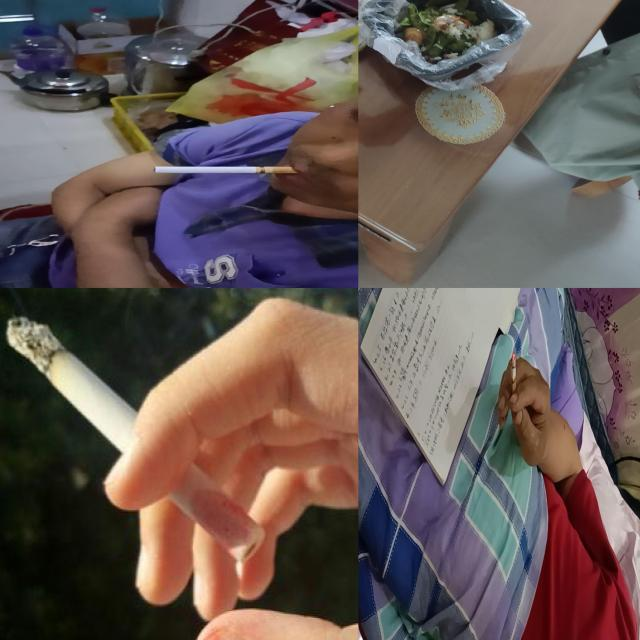smoking: (4, 314, 266, 560), (154, 167, 298, 174), (511, 351, 517, 403)
